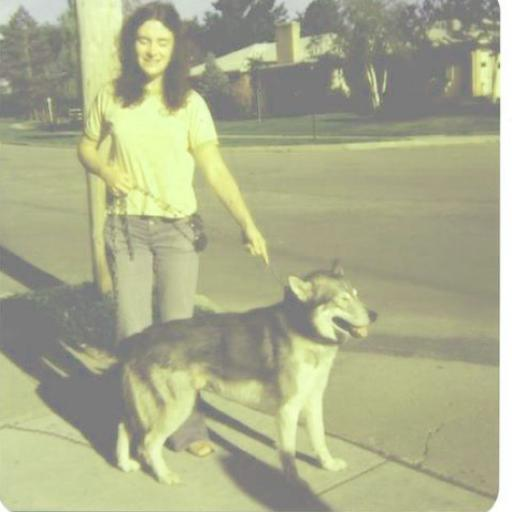dog_face: (286, 254, 379, 346)
